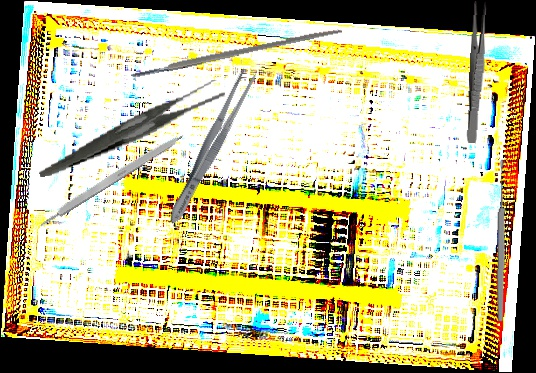Dressing Forceps: (29, 78, 234, 178), (162, 65, 260, 229), (465, 1, 489, 144)
Scalpel Handle: (35, 129, 186, 230), (130, 25, 343, 80)
Surgical Spoon: (495, 158, 508, 323)
